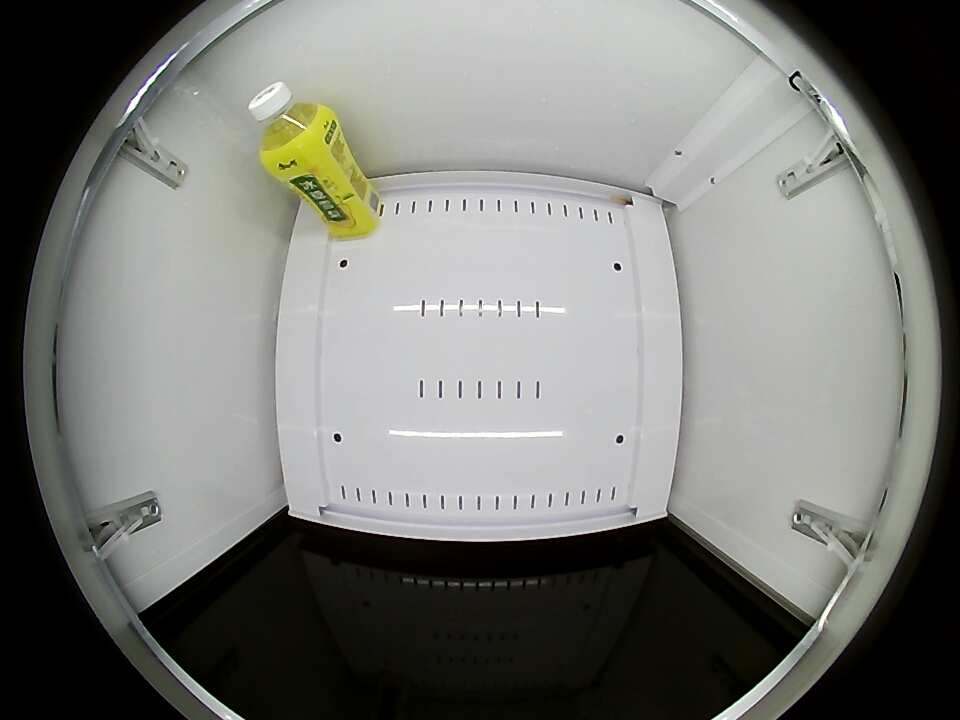bingtangxueli: (249, 81, 336, 174)
